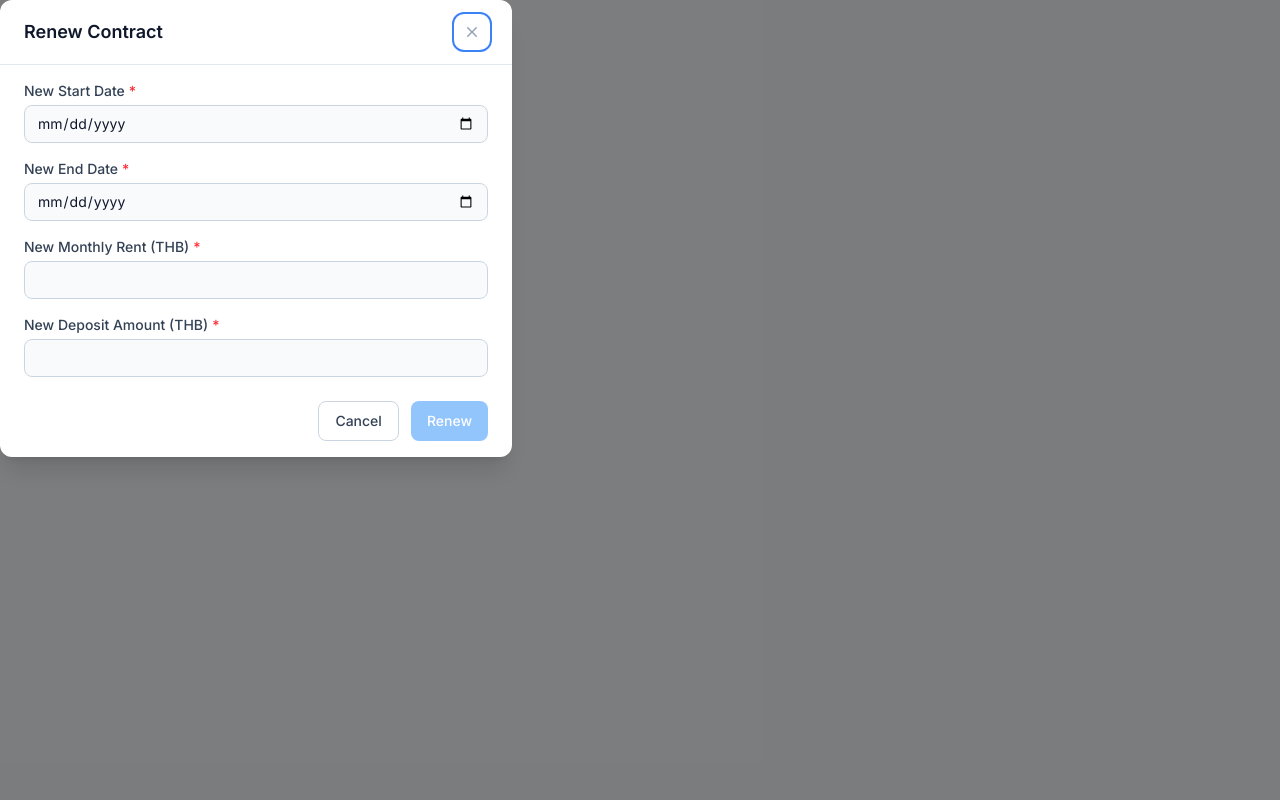
Test: RenewModal › form validation › enables Renew button when all required fields are filled
The width and height of the screenshot is (1280, 800).
Type "2027-01-01" into the date field labelled "New Start Date*" at [256, 124], box 24,105 -> 488,143
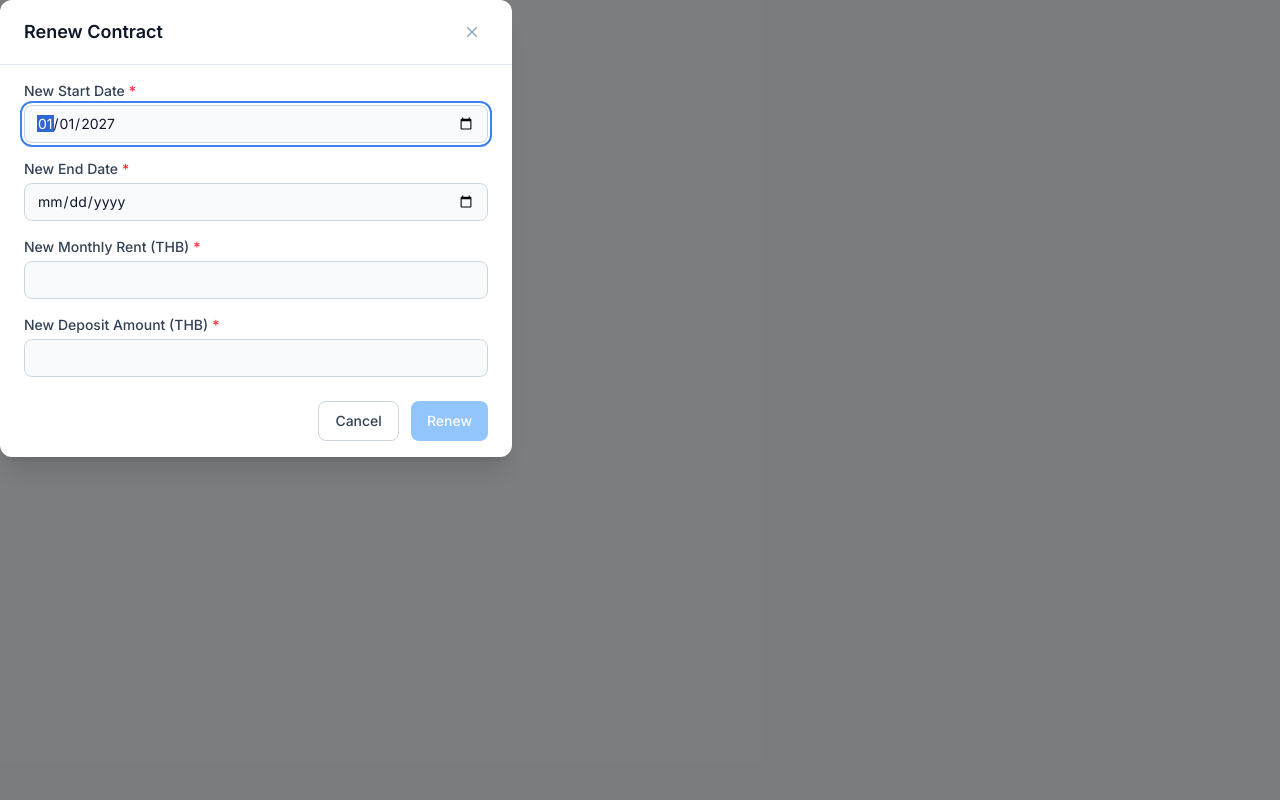
Type "2027-12-31" into the date field labelled "New End Date*" at [256, 202], box 24,183 -> 488,221
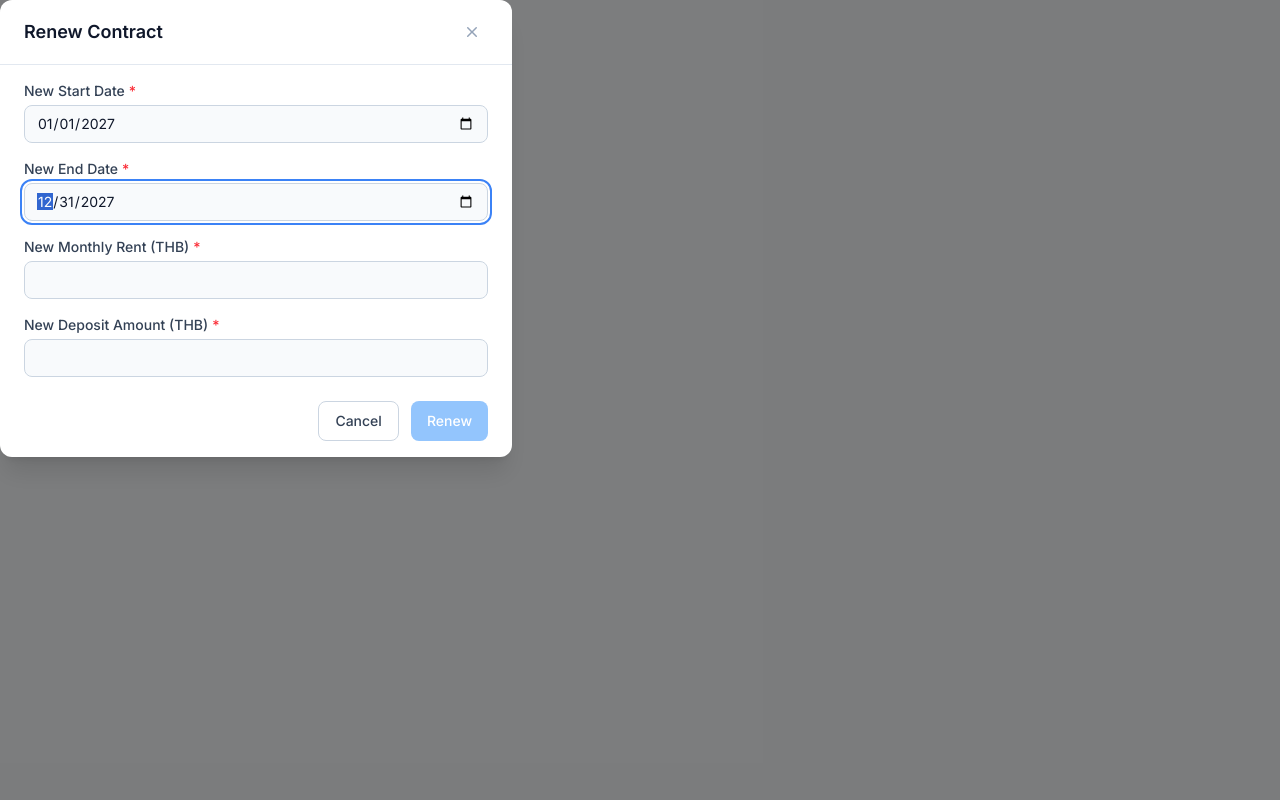
Type "16000" into the number field labelled "New Monthly Rent (THB)*" at [256, 280], box 24,261 -> 488,299
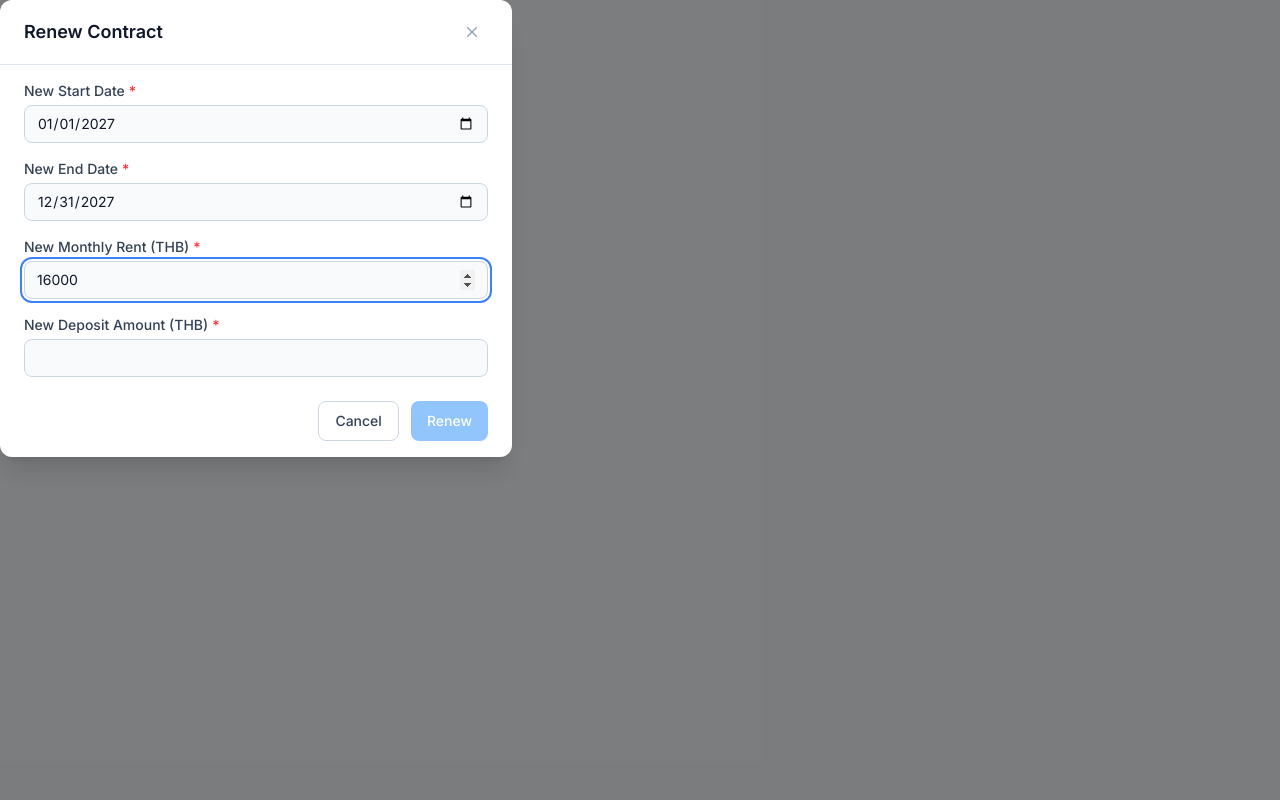
Type "32000" into the number field labelled "New Deposit Amount (THB)*" at [256, 358], box 24,339 -> 488,377
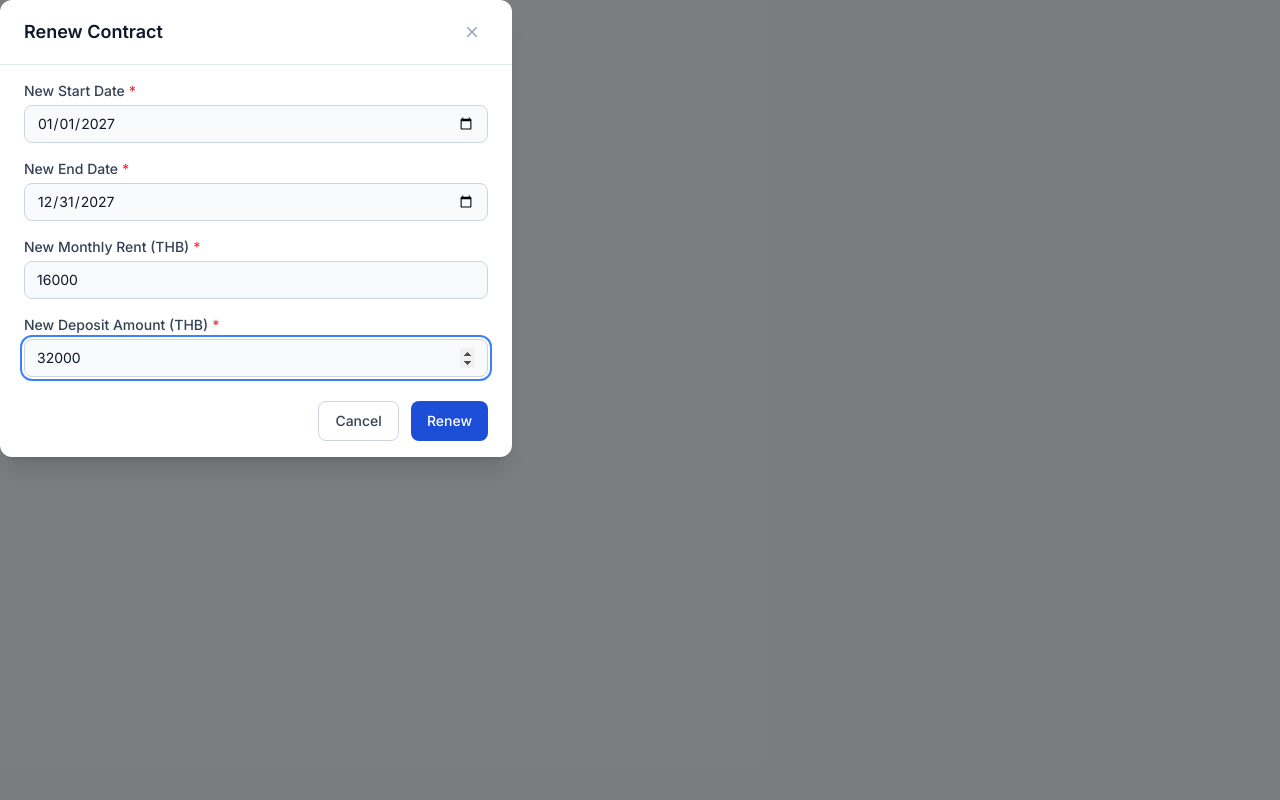
Check: the button "Renew" is enabled, box 411,401 -> 488,441
